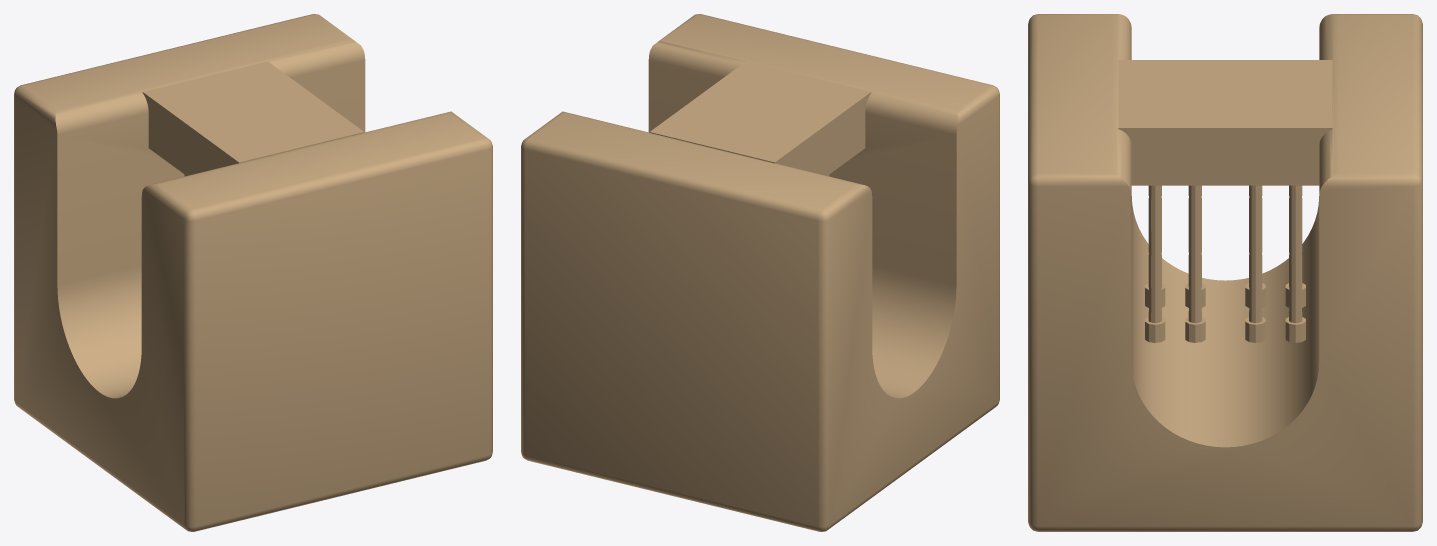
The model's file is mech_arch_rope_l1.glb.
The picture shows the model from 3 angles, left to right: view 1: azimuth 30°, elevation 25°; view 2: azimuth 150°, elevation 25°; view 3: azimuth 270°, elevation 25°; orthographic projection. The views are drawn at different scales.
Visible parts, largest first — view 1: mech_arch_rope_l1_lod0; view 2: mech_arch_rope_l1_lod0; view 3: mech_arch_rope_l1_lod0, anim_rope_4_lod0, anim_rope_5_lod0, anim_rope_6_lod0, anim_rope_7_lod0.
Boxes of the visible parts, box(x1,y1,x2,y2) form: mech_arch_rope_l1_lod0: box(14, 14, 492, 531); mech_arch_rope_l1_lod0: box(521, 14, 999, 531); mech_arch_rope_l1_lod0: box(1028, 14, 1422, 531); anim_rope_4_lod0: box(1285, 185, 1305, 342); anim_rope_5_lod0: box(1245, 185, 1265, 342); anim_rope_6_lod0: box(1185, 185, 1205, 342); anim_rope_7_lod0: box(1145, 185, 1165, 342).
Size of what is drawn, in the model's own units: 0.059 by 0.059 by 0.059.
